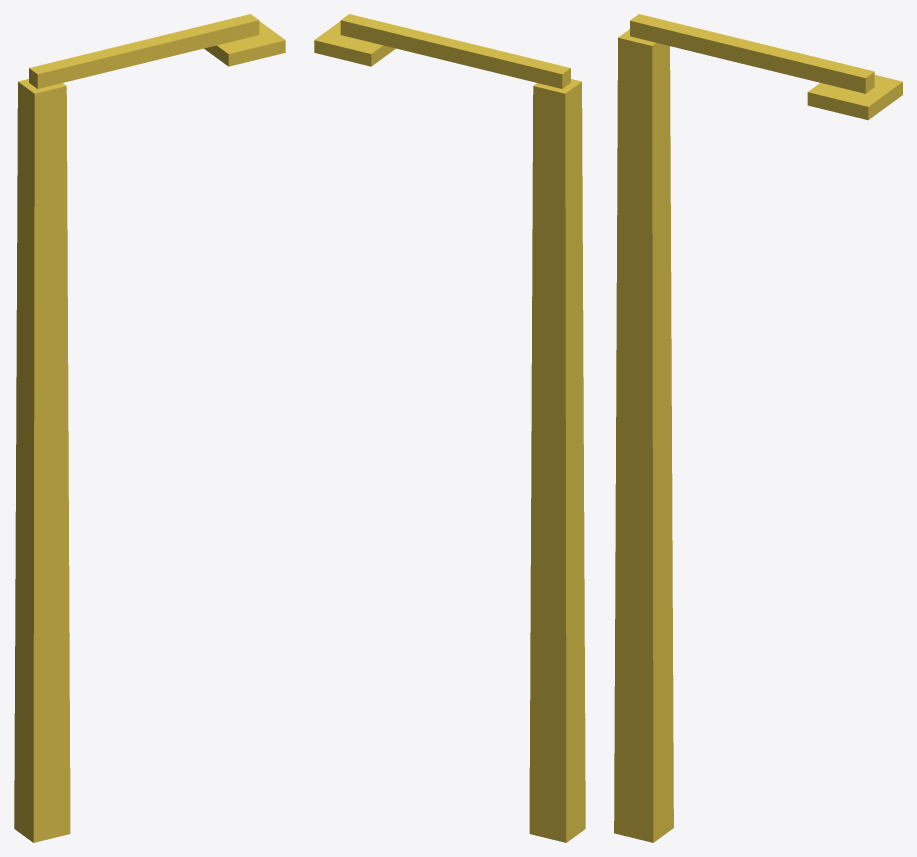
The picture shows the model from 3 angles, left to right: view 1: azimuth 30°, elevation 25°; view 2: azimuth 150°, elevation 25°; view 3: azimuth 330°, elevation 25°; orthographic projection. The views are drawn at different scales.
Parts seen in each view (by area): view 1: lamp_5_2; view 2: lamp_5_2; view 3: lamp_5_2.
Boxes of the visible parts, x1,y1,x2,y2 form: lamp_5_2: (14, 14, 285, 842); lamp_5_2: (314, 14, 585, 842); lamp_5_2: (614, 14, 902, 842).
Bounding box in the file's own units: 386 × 1146 × 88.45.
